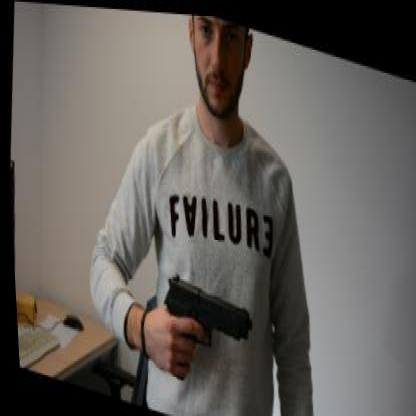pistol: (153, 265, 254, 398)
